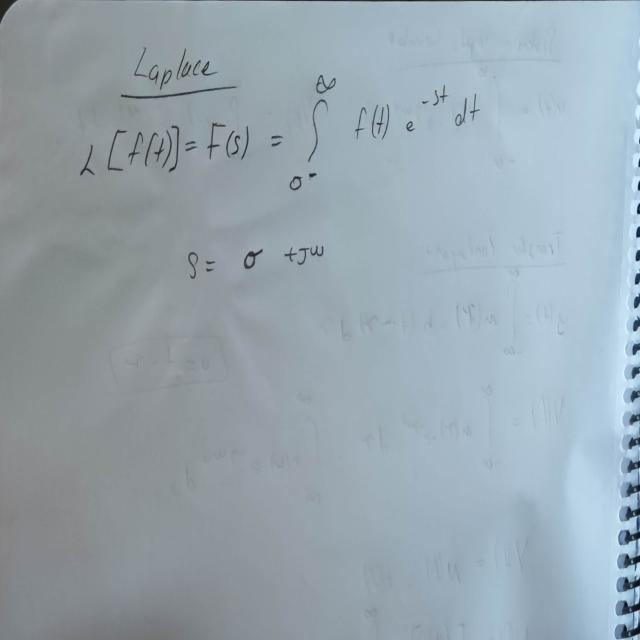math: (58, 71, 486, 216)
